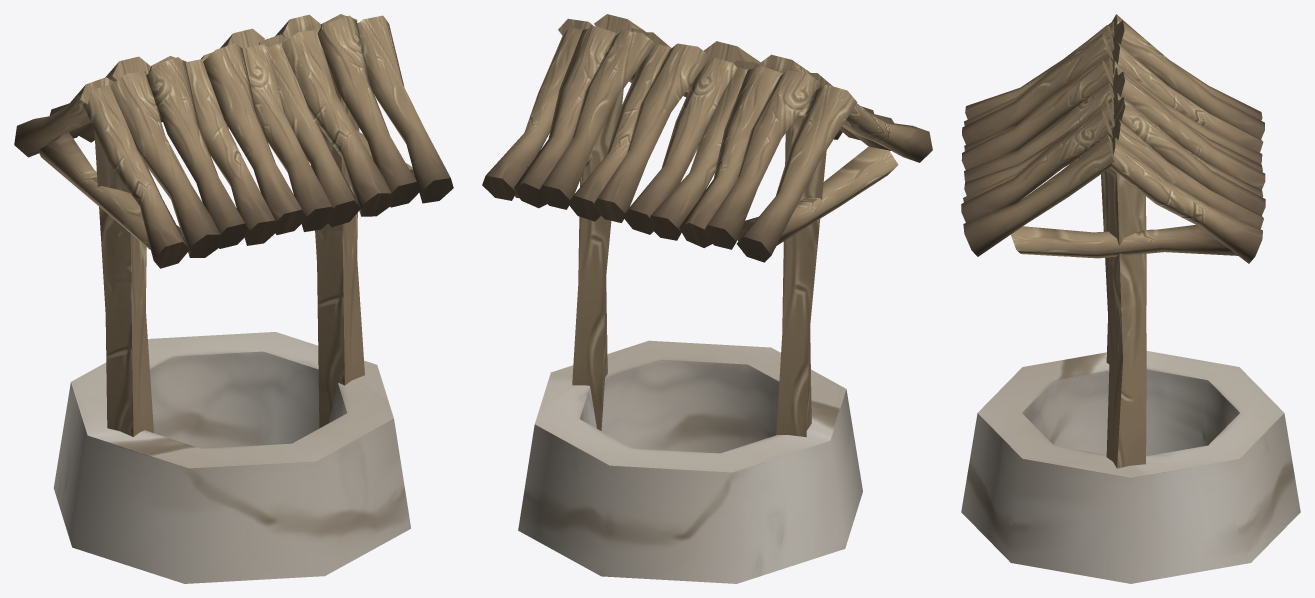
The model's file is Egypt_Village_Props_28.FBX.
The picture shows the model from 3 angles, left to right: view 1: azimuth 30°, elevation 25°; view 2: azimuth 150°, elevation 25°; view 3: azimuth 270°, elevation 25°; orthographic projection. The views are drawn at different scales.
Visible parts, largest first — view 1: Egypt_Village_Props_28; view 2: Egypt_Village_Props_28; view 3: Egypt_Village_Props_28.
Boxes of the visible parts, <box> form: Egypt_Village_Props_28: <box>14,14,453,583</box>; Egypt_Village_Props_28: <box>482,14,932,583</box>; Egypt_Village_Props_28: <box>961,14,1300,583</box>.
Size of the model in its own units: 182 by 258 by 180.
